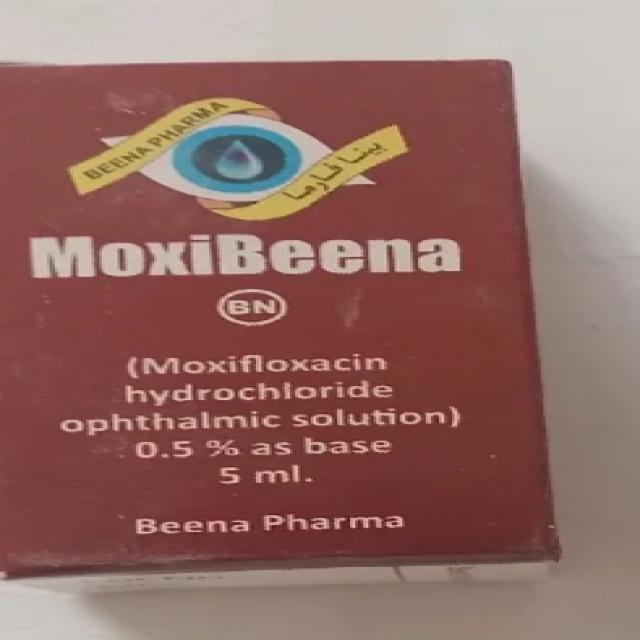drug-name: (26, 233, 464, 278)
